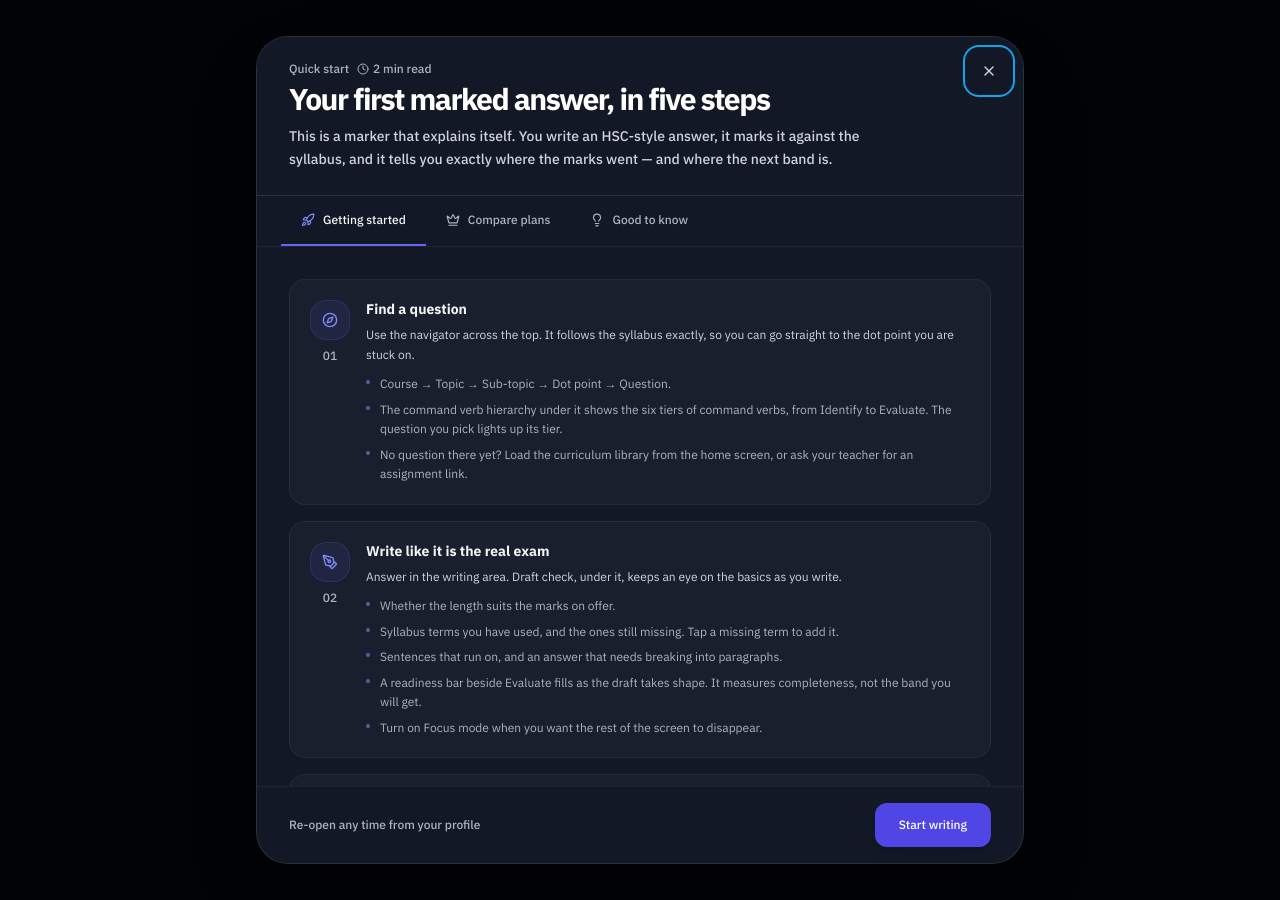
Test: the quick start guide’s scrolling body › gives the plan comparison its own header, not the guide’s “Quick start” one
Expected: the heading "Your first marked answer, in five steps" is shown, x1=289 y1=79 x2=770 y2=118
Click the button "Compare plans" at (498, 221), box x1=426 y1=196 x2=570 y2=246
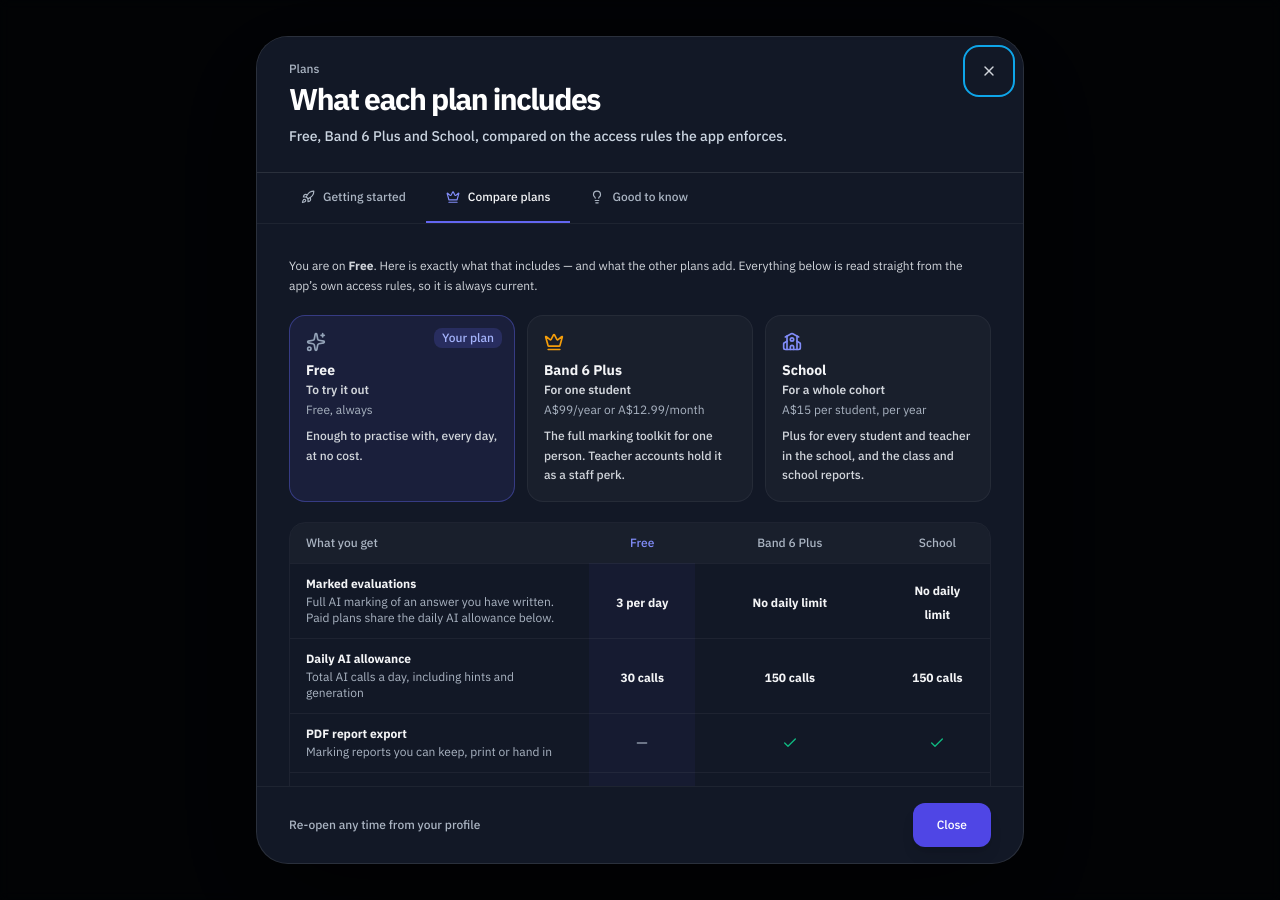
Expected: the heading "What each plan includes" is shown, x1=289 y1=79 x2=600 y2=118
Expected: the text "Plans" is shown, x1=289 y1=61 x2=319 y2=76
